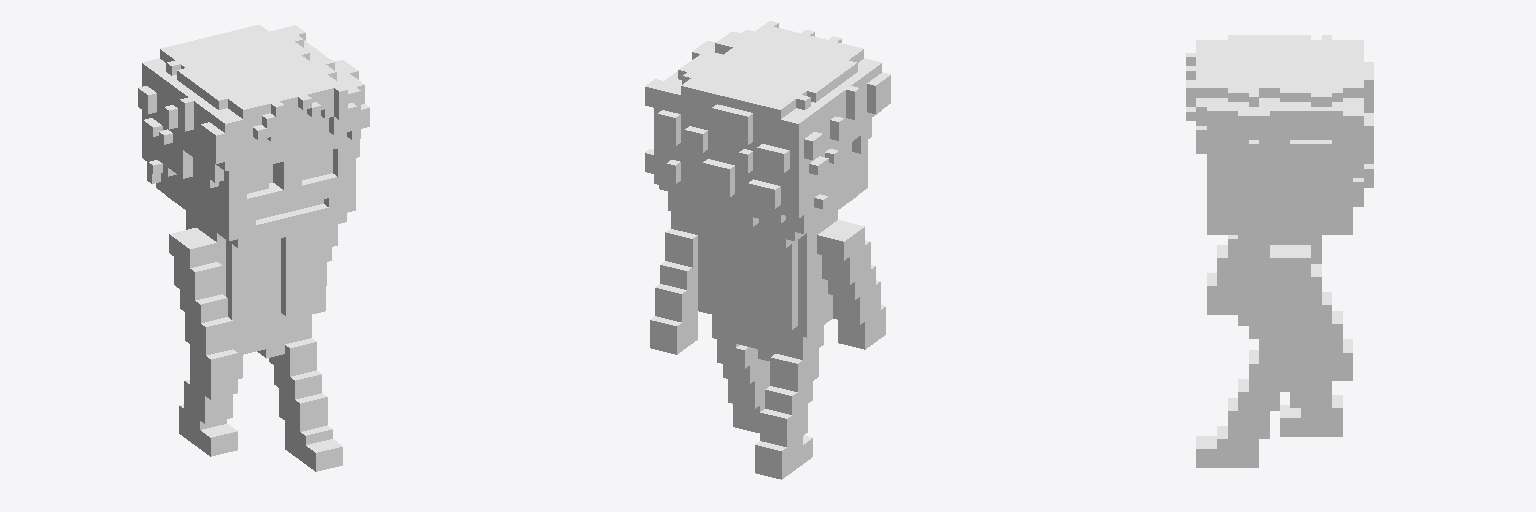
Rendered from guy_walk_2.obj.
3 views of the same model, side by side, from view 1: azimuth 30°, elevation 25°; view 2: azimuth 150°, elevation 25°; view 3: azimuth 270°, elevation 25° (orthographic).
Parts seen in each view (by area): view 1: object 1; view 2: object 1; view 3: object 1.
Boxes of the visible parts, <box> form: object 1: <box>138,25,369,471</box>; object 1: <box>645,21,890,479</box>; object 1: <box>1186,35,1373,467</box>.
Bounding box in the file's own units: 1.8 × 4 × 1.8.